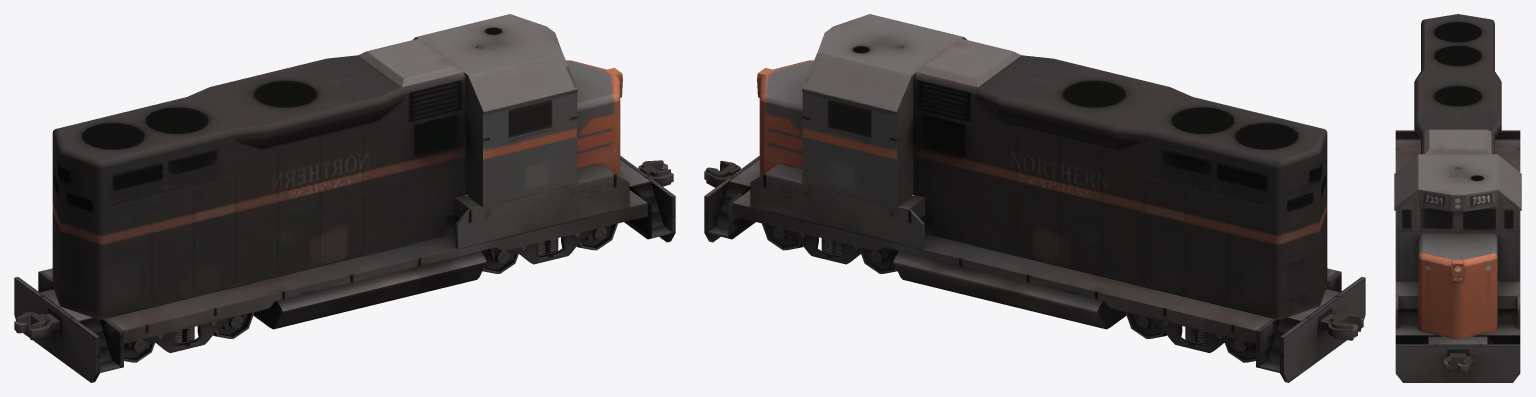
3 views of the same model, side by side, from view 1: azimuth 30°, elevation 25°; view 2: azimuth 150°, elevation 25°; view 3: azimuth 270°, elevation 25° (orthographic). The views are drawn at different scales.
Parts seen in each view (by area): view 1: body0_model0_lod0_mesh0; view 2: body0_model0_lod0_mesh0; view 3: body0_model0_lod0_mesh0.
Boxes of the visible parts, <box> form: body0_model0_lod0_mesh0: <box>14,14,675,382</box>; body0_model0_lod0_mesh0: <box>704,14,1365,382</box>; body0_model0_lod0_mesh0: <box>1394,14,1521,382</box>.
Bounding box in the file's own units: 38.21 × 12.23 × 8.47.
Materials: 1 (1 with a texture image).
